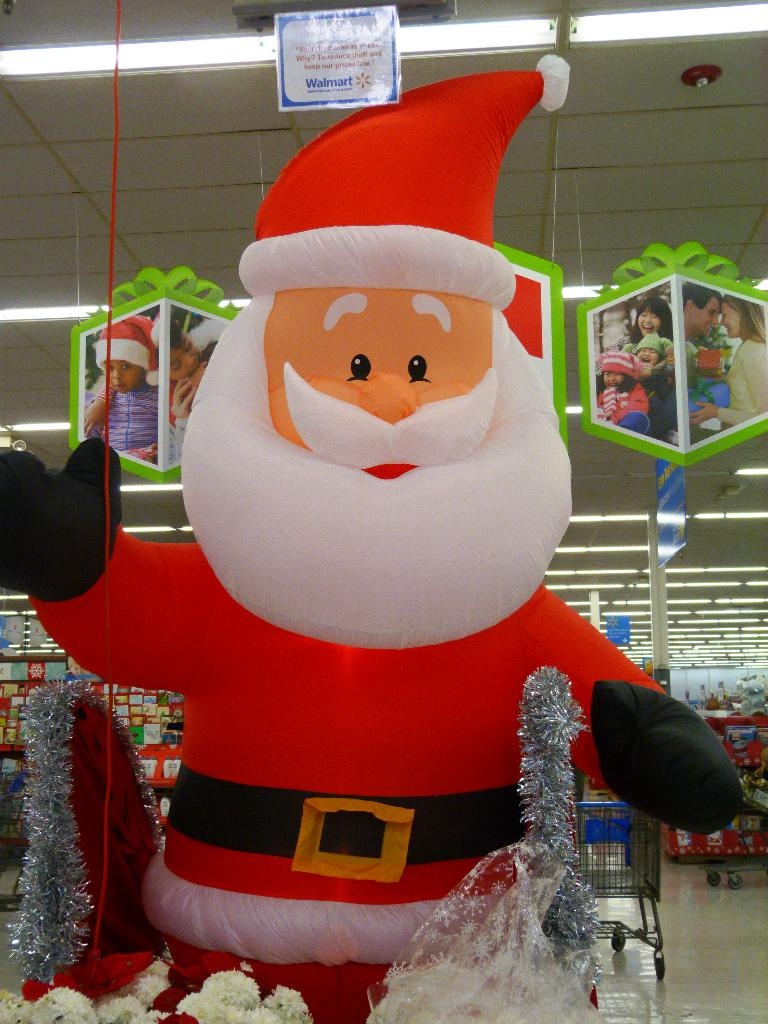Person: (589, 265, 768, 470), (77, 291, 253, 477)
